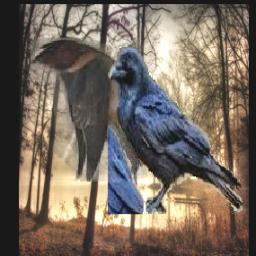Crow: (108, 45, 246, 214)
Swallow: (31, 39, 147, 183)
